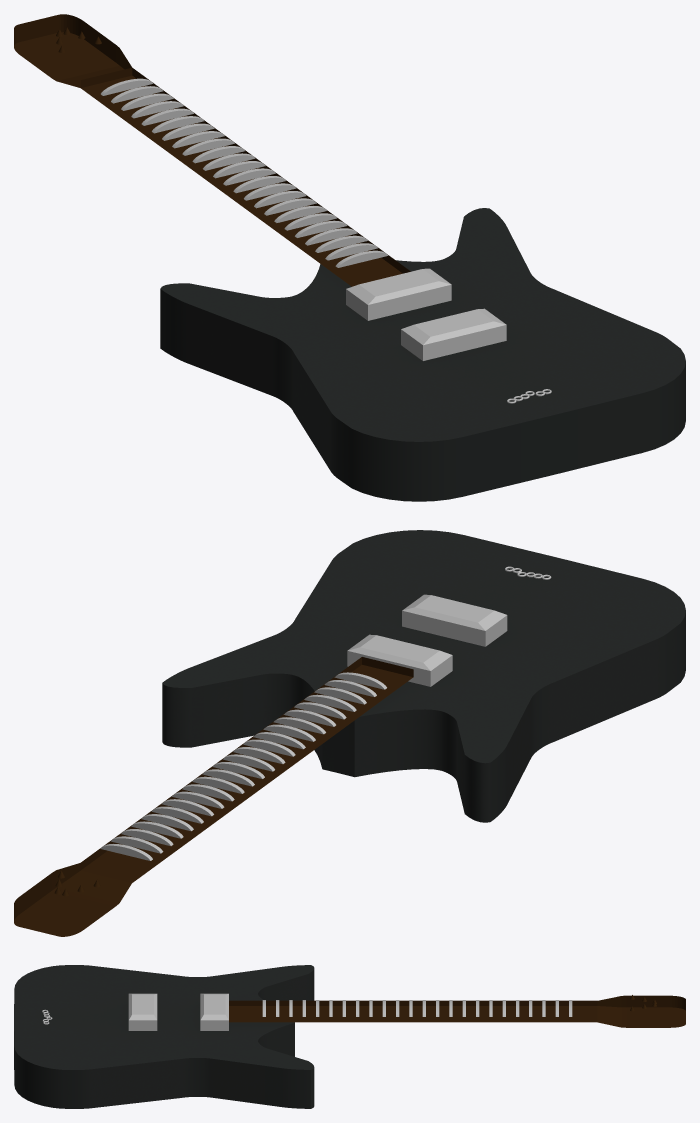
Rendered from kytara.obj.
The picture shows the model from 3 angles, top to bottom: view 1: azimuth 30°, elevation 25°; view 2: azimuth 150°, elevation 25°; view 3: azimuth 270°, elevation 25°; orthographic projection. The views are drawn at different scales.
Visible parts, largest first — view 1: Kytara_Cube.004; view 2: Kytara_Cube.004; view 3: Kytara_Cube.004.
Part boxes in pixels (x1,y1,x2,y2): Kytara_Cube.004: [14, 14, 685, 501]; Kytara_Cube.004: [14, 530, 685, 936]; Kytara_Cube.004: [14, 965, 685, 1108].
Size of the model in its own units: 0.6531 by 0.1646 by 1.77.
1 material, 1 textured.
